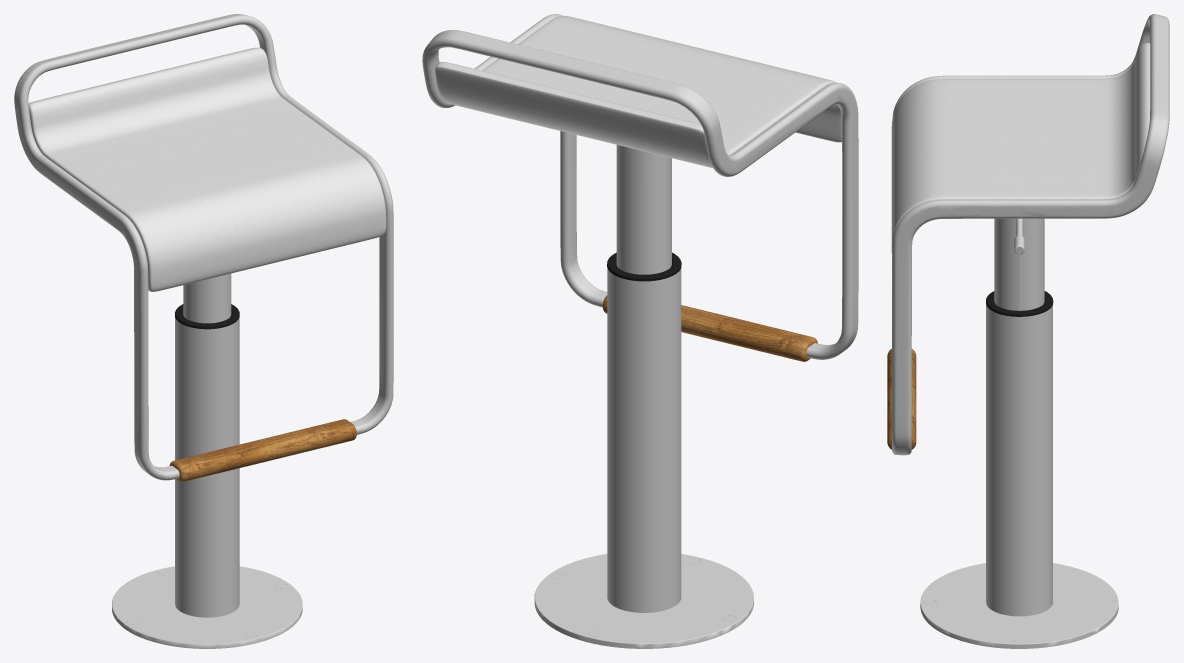
File: c113-clun-280.glb
3 renders of one model, left to right at view 1: azimuth 30°, elevation 25°; view 2: azimuth 150°, elevation 25°; view 3: azimuth 270°, elevation 25°, orthographic. The views are drawn at different scales.
Parts seen in each view (by area): view 1: c113-seduta-tessuto, c113-base-piastra, c113-poggiapiedi-legno, c113-ammortizzatore-distanziale; view 2: c113-base-piastra, c113-seduta-tessuto, c113-poggiapiedi-legno, c113-ammortizzatore-distanziale; view 3: c113-base-piastra, c113-seduta-tessuto, c113-poggiapiedi-legno, c113-ammortizzatore-distanziale.
Part boxes in pixels (bbox=[...]): c113-seduta-tessuto: bbox=[28, 47, 386, 291]; c113-base-piastra: bbox=[14, 14, 393, 648]; c113-poggiapiedi-legno: bbox=[169, 419, 356, 481]; c113-ammortizzatore-distanziale: bbox=[175, 304, 239, 329]; c113-base-piastra: bbox=[422, 14, 858, 648]; c113-seduta-tessuto: bbox=[435, 15, 841, 167]; c113-poggiapiedi-legno: bbox=[602, 295, 817, 361]; c113-ammortizzatore-distanziale: bbox=[607, 252, 681, 281]; c113-base-piastra: bbox=[892, 14, 1169, 648]; c113-seduta-tessuto: bbox=[891, 43, 1150, 255]; c113-poggiapiedi-legno: bbox=[887, 349, 916, 449]; c113-ammortizzatore-distanziale: bbox=[986, 291, 1053, 316].
Size of the model in its own units: 0.4852 by 0.9046 by 0.4268.
Materials: 4 (2 with a texture image).
